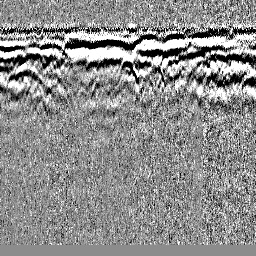cavity: (116, 54, 139, 85)
